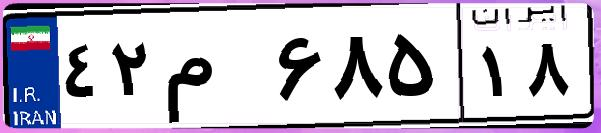1: (475, 38, 525, 113)
2: (110, 28, 158, 98)
4: (57, 26, 110, 100)
5: (385, 28, 445, 110)
6: (270, 28, 330, 110)
8: (330, 28, 385, 110), (525, 38, 570, 115)
م: (158, 20, 270, 120)
